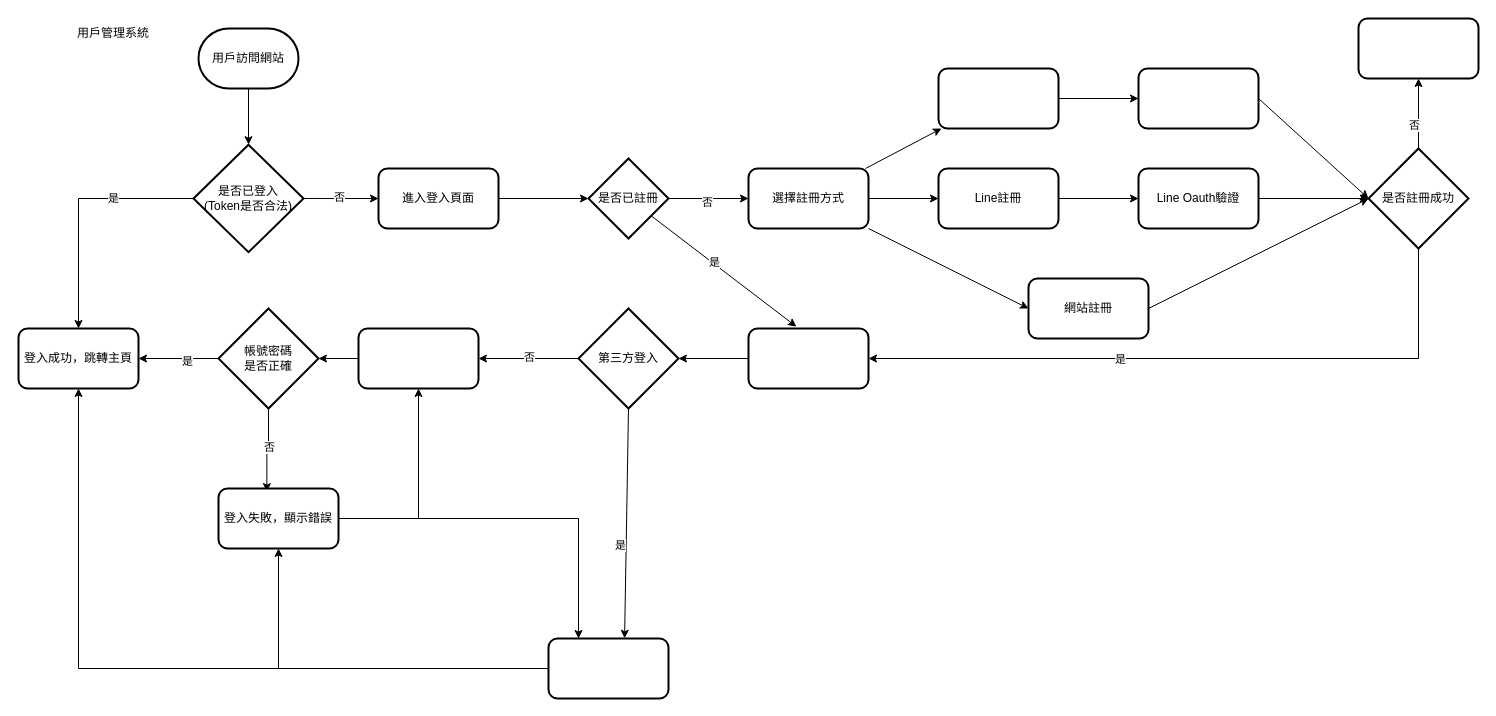
Image size: 1496x716. Some labels were removed from this diagram. The shapes that lost their labels are listed below. From the top down, each one's centre as x and y in pixels, then its label:
At pixel 1418 48: "註冊失敗，顯示錯誤".
At pixel 998 98: "Google註冊".
At pixel 1198 98: "Google Oauth驗證".
At pixel 418 358: "輸入帳號與密碼".
At pixel 808 358: "登入".
At pixel 608 668: "第三方快速登入".
